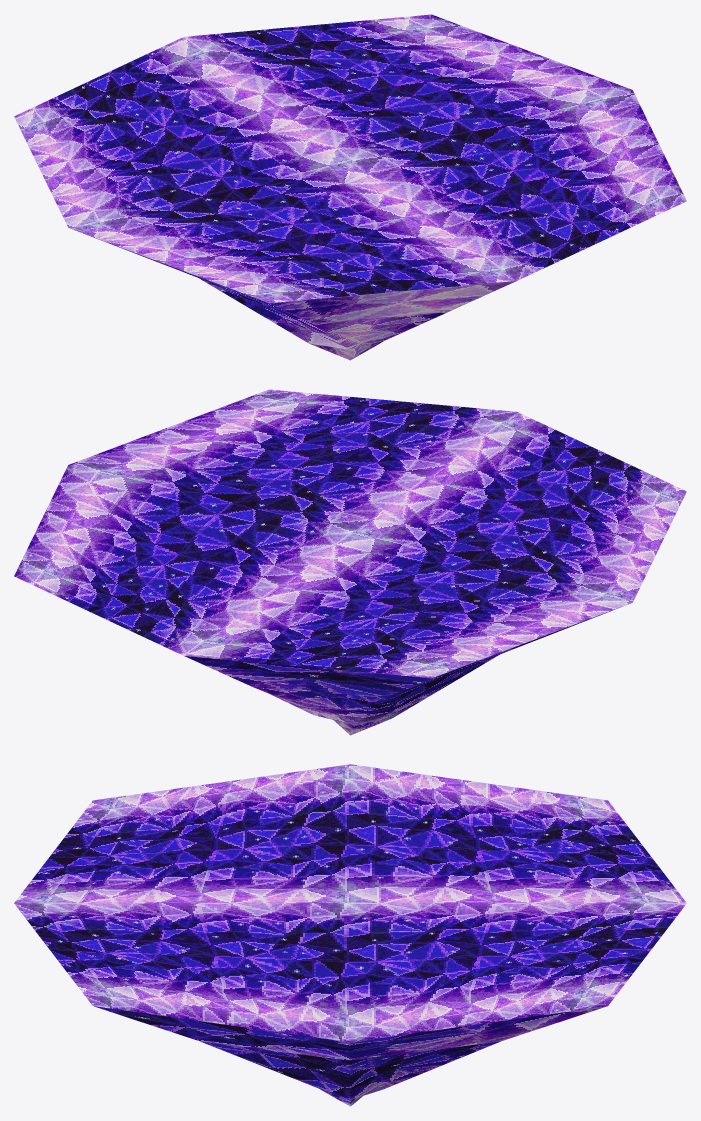
The model's file is Arena.glb.
3 views of the same model, one above another, from view 1: azimuth 30°, elevation 25°; view 2: azimuth 150°, elevation 25°; view 3: azimuth 270°, elevation 25° (orthographic).
Visible parts, largest first — view 1: Cube; view 2: Cube; view 3: Cube.
Part boxes in pixels (x1,y1,x2,y2): Cube: [14, 14, 686, 360]; Cube: [14, 389, 686, 735]; Cube: [14, 764, 686, 1106].
Bounding box in the file's own units: 5.97 × 2.04 × 6.1.
Materials: 1 (1 with a texture image).
